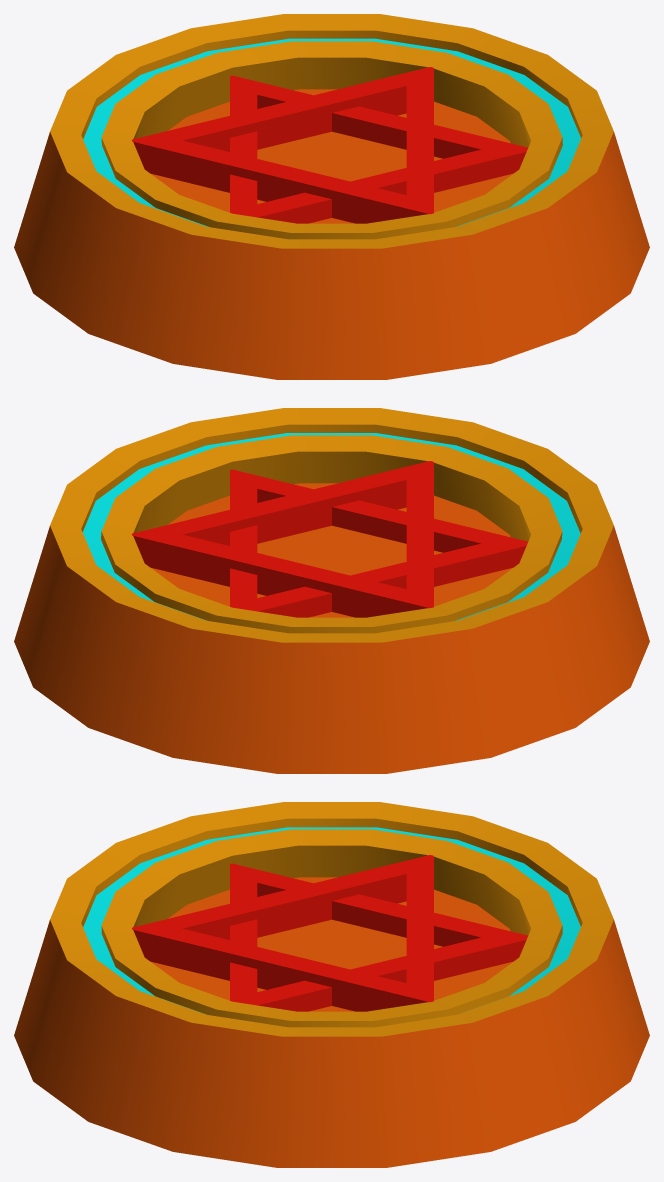
File: stadium dep.fbx
3 views of the same model, one above another, from view 1: azimuth 30°, elevation 25°; view 2: azimuth 150°, elevation 25°; view 3: azimuth 270°, elevation 25° (orthographic).
Visible parts, largest first — view 1: Cylinder.002; view 2: Cylinder.002; view 3: Cylinder.002.
Boxes of the visible parts, x1,y1,x2,y2 form: Cylinder.002: (14,14,649,379); Cylinder.002: (14,408,649,773); Cylinder.002: (14,802,649,1167).
Bounding box in the file's own units: 331 × 67.68 × 336.
